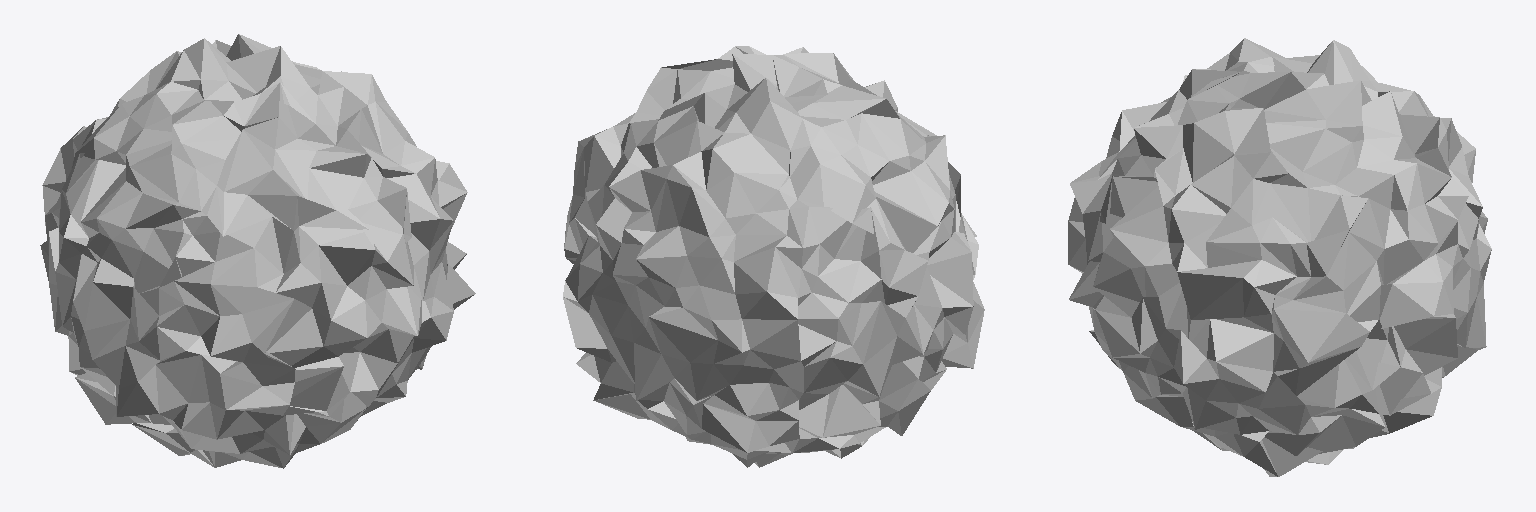
File: explosion.obj
3 views of the same model, side by side, from view 1: azimuth 30°, elevation 25°; view 2: azimuth 150°, elevation 25°; view 3: azimuth 270°, elevation 25° (orthographic).
Parts seen in each view (by area): view 1: Icosphere; view 2: Icosphere; view 3: Icosphere.
Boxes of the visible parts, box(x1,y1,x2,y2) form: Icosphere: box(40, 34, 475, 468); Icosphere: box(563, 46, 984, 467); Icosphere: box(1068, 38, 1491, 476).
Size of the model in its own units: 2.17 by 2.25 by 2.11.